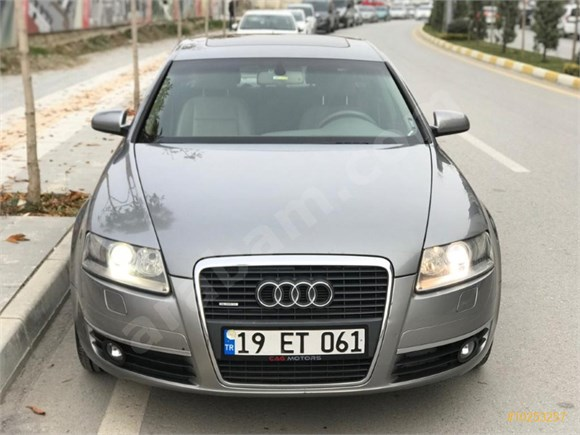audi: (250, 278, 336, 311)
